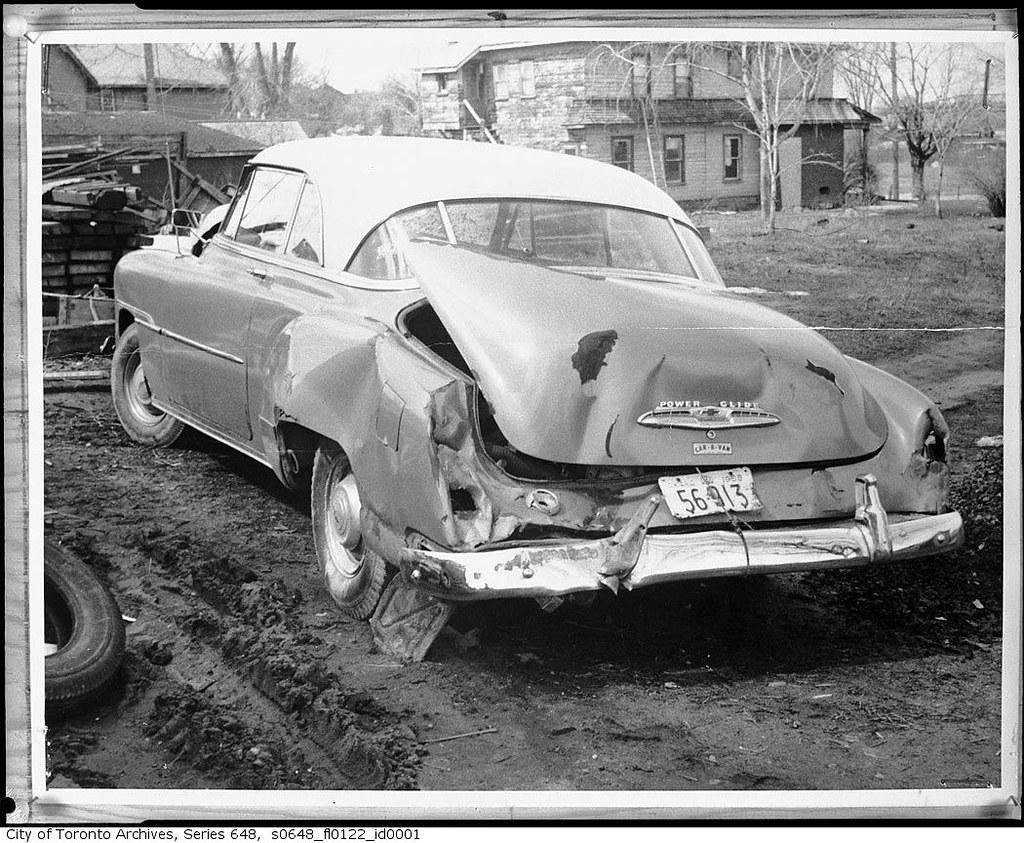quaterpanel-dent: (276, 329, 448, 484)
rear-bumper-dent: (446, 457, 971, 620)
